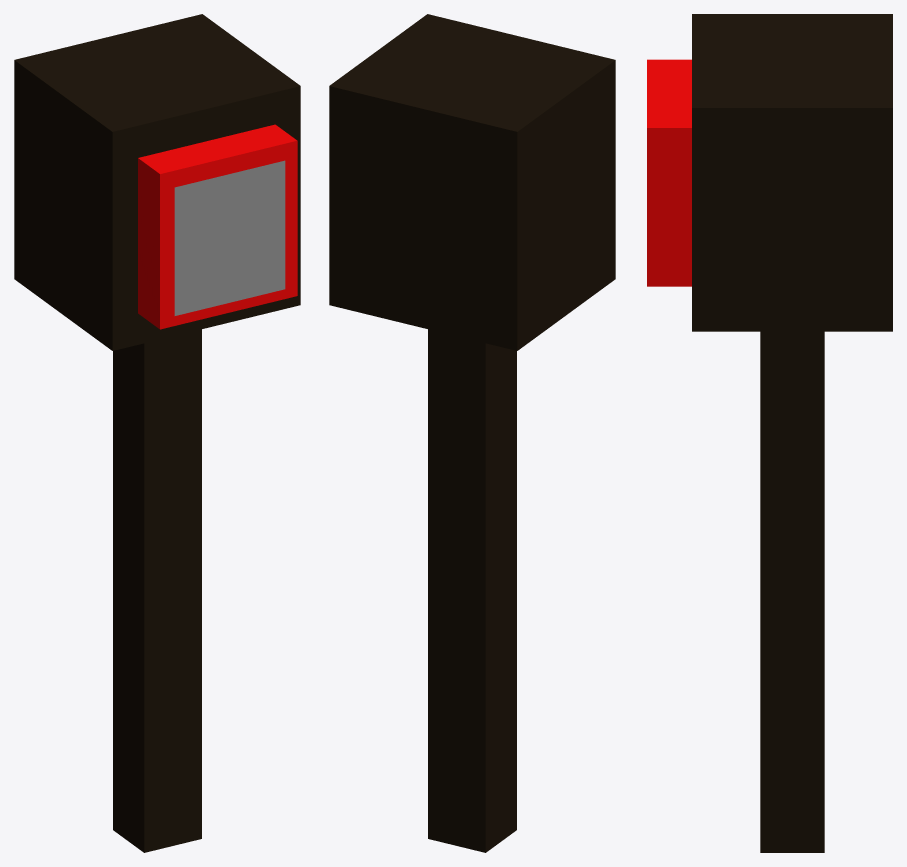
The model's file is Interrupteur.FBX.
The picture shows the model from 3 angles, left to right: view 1: azimuth 30°, elevation 25°; view 2: azimuth 150°, elevation 25°; view 3: azimuth 270°, elevation 25°; orthographic projection. The views are drawn at different scales.
Parts seen in each view (by area): view 1: Piquet, Signe, Bouton; view 2: Piquet; view 3: Piquet, Bouton.
Part boxes in pixels (x1,y1,x2,y2): Piquet: (14, 14, 300, 852); Signe: (174, 160, 285, 315); Bouton: (138, 124, 297, 329); Piquet: (329, 14, 615, 852); Piquet: (692, 14, 892, 852); Bouton: (647, 59, 691, 286).
Bounding box in the file's own units: 3.79 × 14.66 × 4.25.
